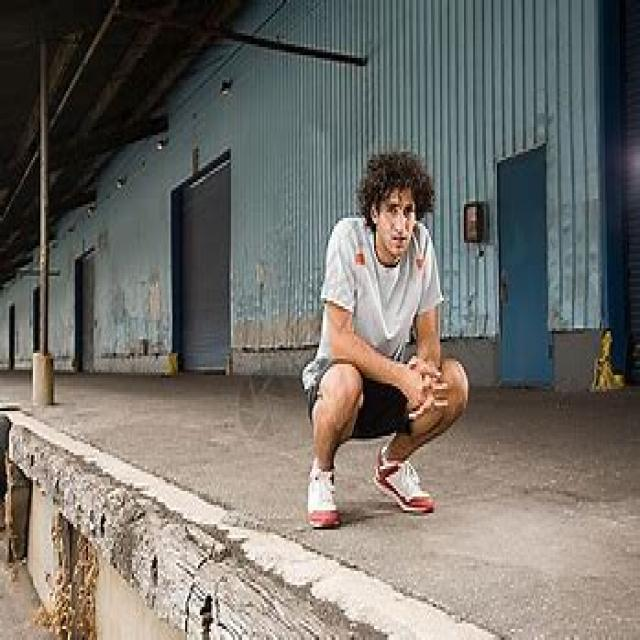sit: (315, 132, 469, 520)
